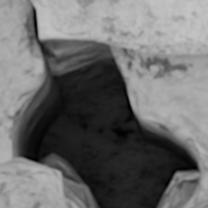brick: (33, 0, 207, 52)
broken_brick: (0, 157, 70, 207), (190, 197, 207, 207)
crack: (2, 0, 206, 207)
